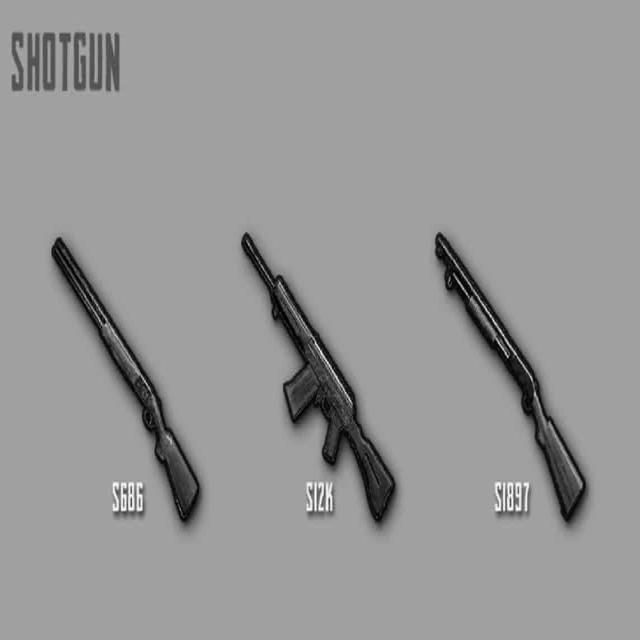Rifle: (219, 225, 425, 538)
Short-Gun: (409, 213, 595, 537), (38, 229, 206, 557)
